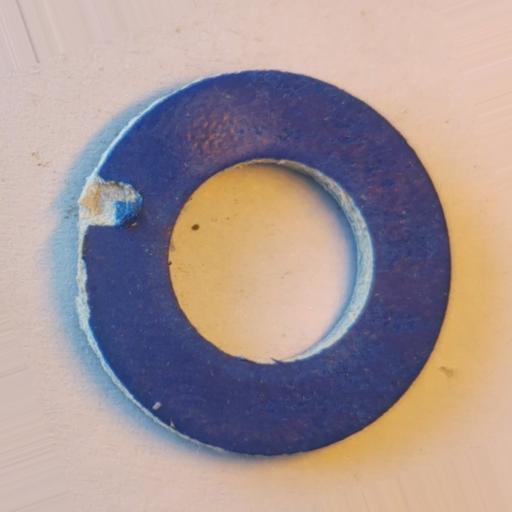defect: (76, 173, 146, 229)
